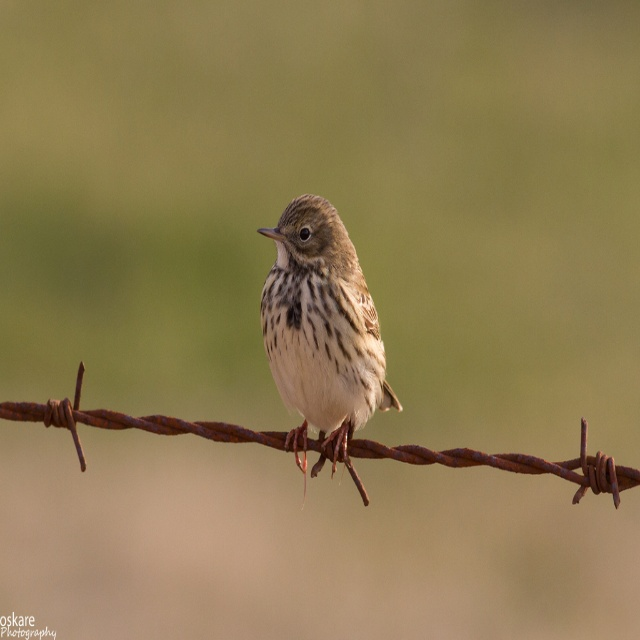Sparrow: (256, 192, 403, 511)
